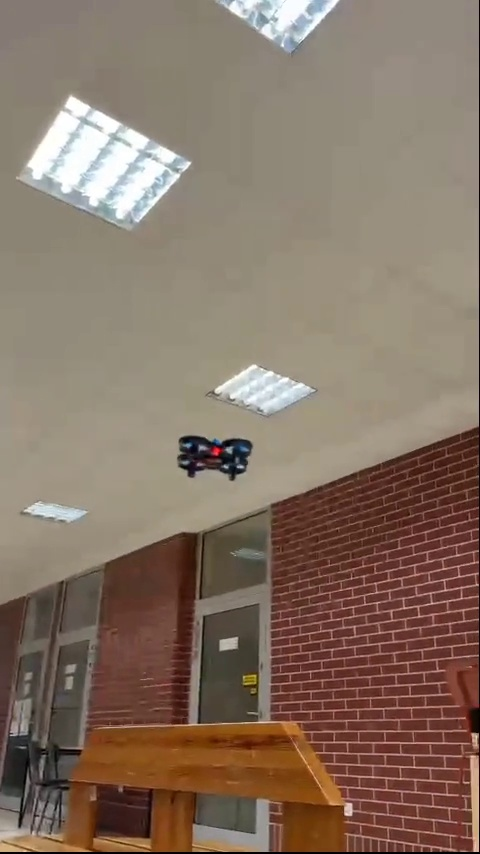drone: (175, 431, 254, 481)
